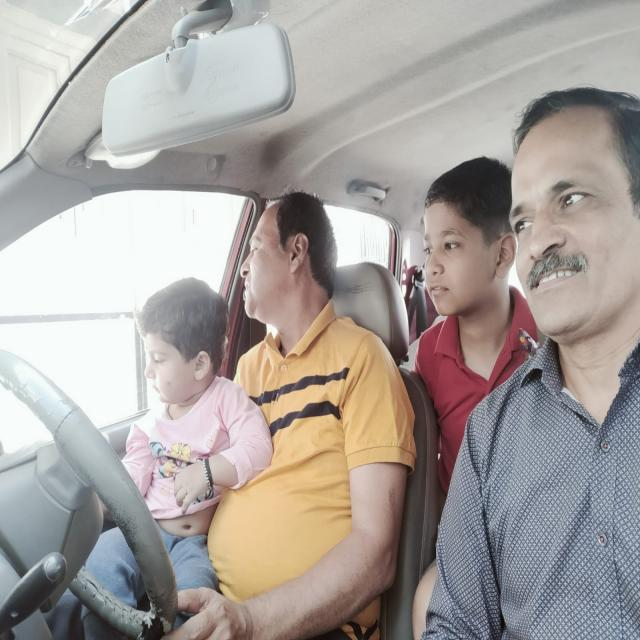child: (133, 265, 236, 416)
person: (510, 78, 640, 408), (238, 188, 338, 368), (421, 153, 515, 332)
